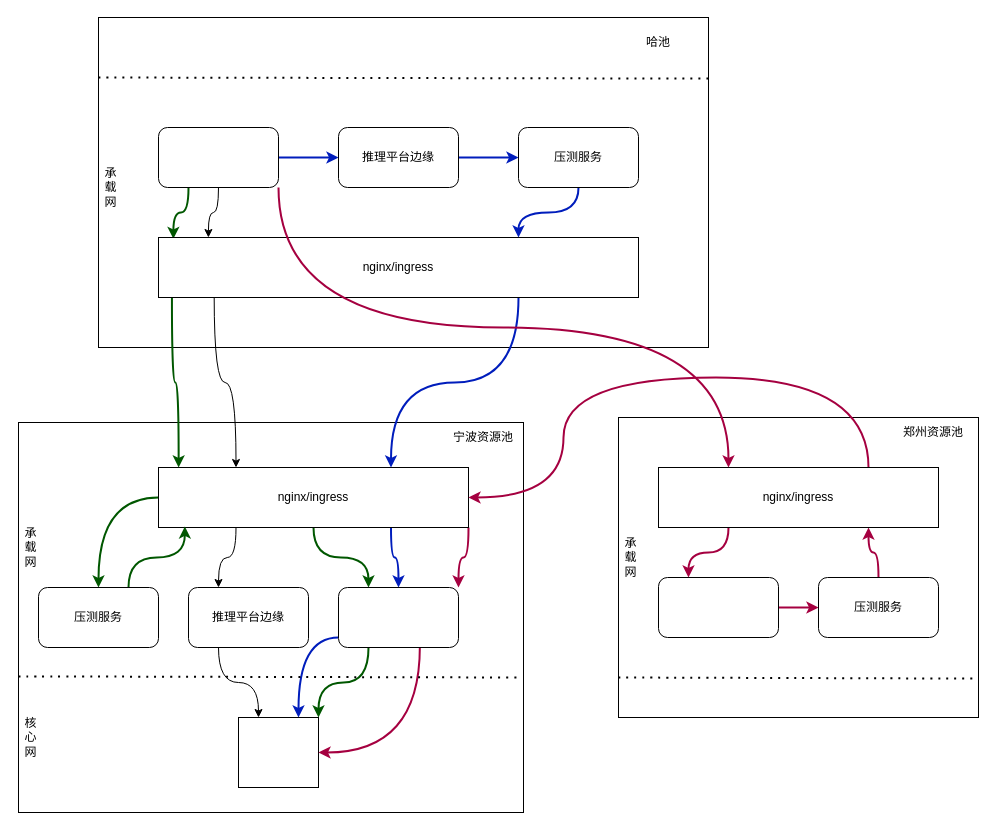
This 996x830 diagram has some shape labels left out. The shapes that lost their labels are listed below. From the top down, each one's centre as x and y in pixels, then its label:
(x=218, y=157): 推理平台中控
(x=398, y=617): kong网关
(x=718, y=607): 推理平台边缘服务
(x=278, y=752): 评测能力pod
